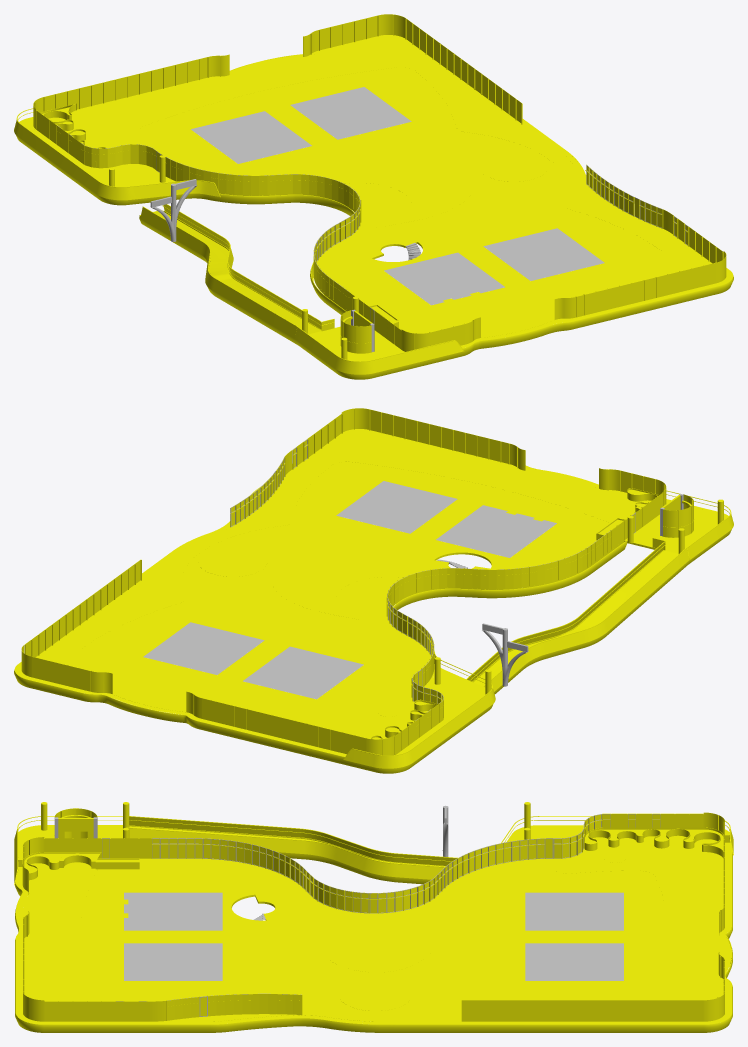
File: sm_hana_building_13f_out.glb
3 renders of one model, top to bottom at view 1: azimuth 30°, elevation 25°; view 2: azimuth 150°, elevation 25°; view 3: azimuth 270°, elevation 25°, orthographic. The views are drawn at different scales.
Visible parts, largest first — view 1: sm_hana_building_13f_out; view 2: sm_hana_building_13f_out; view 3: sm_hana_building_13f_out.
Boxes of the visible parts, left/top/right/bottom form: sm_hana_building_13f_out: left=14, top=14, right=733, bottom=379; sm_hana_building_13f_out: left=14, top=408, right=733, bottom=773; sm_hana_building_13f_out: left=14, top=802, right=733, bottom=1032.
Size of the model in its own units: 66.18 by 11 by 100.
13 materials, 10 textured.
